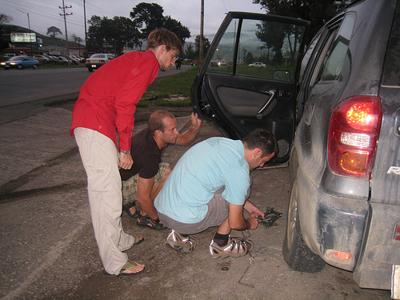person: (156, 126, 278, 258)
